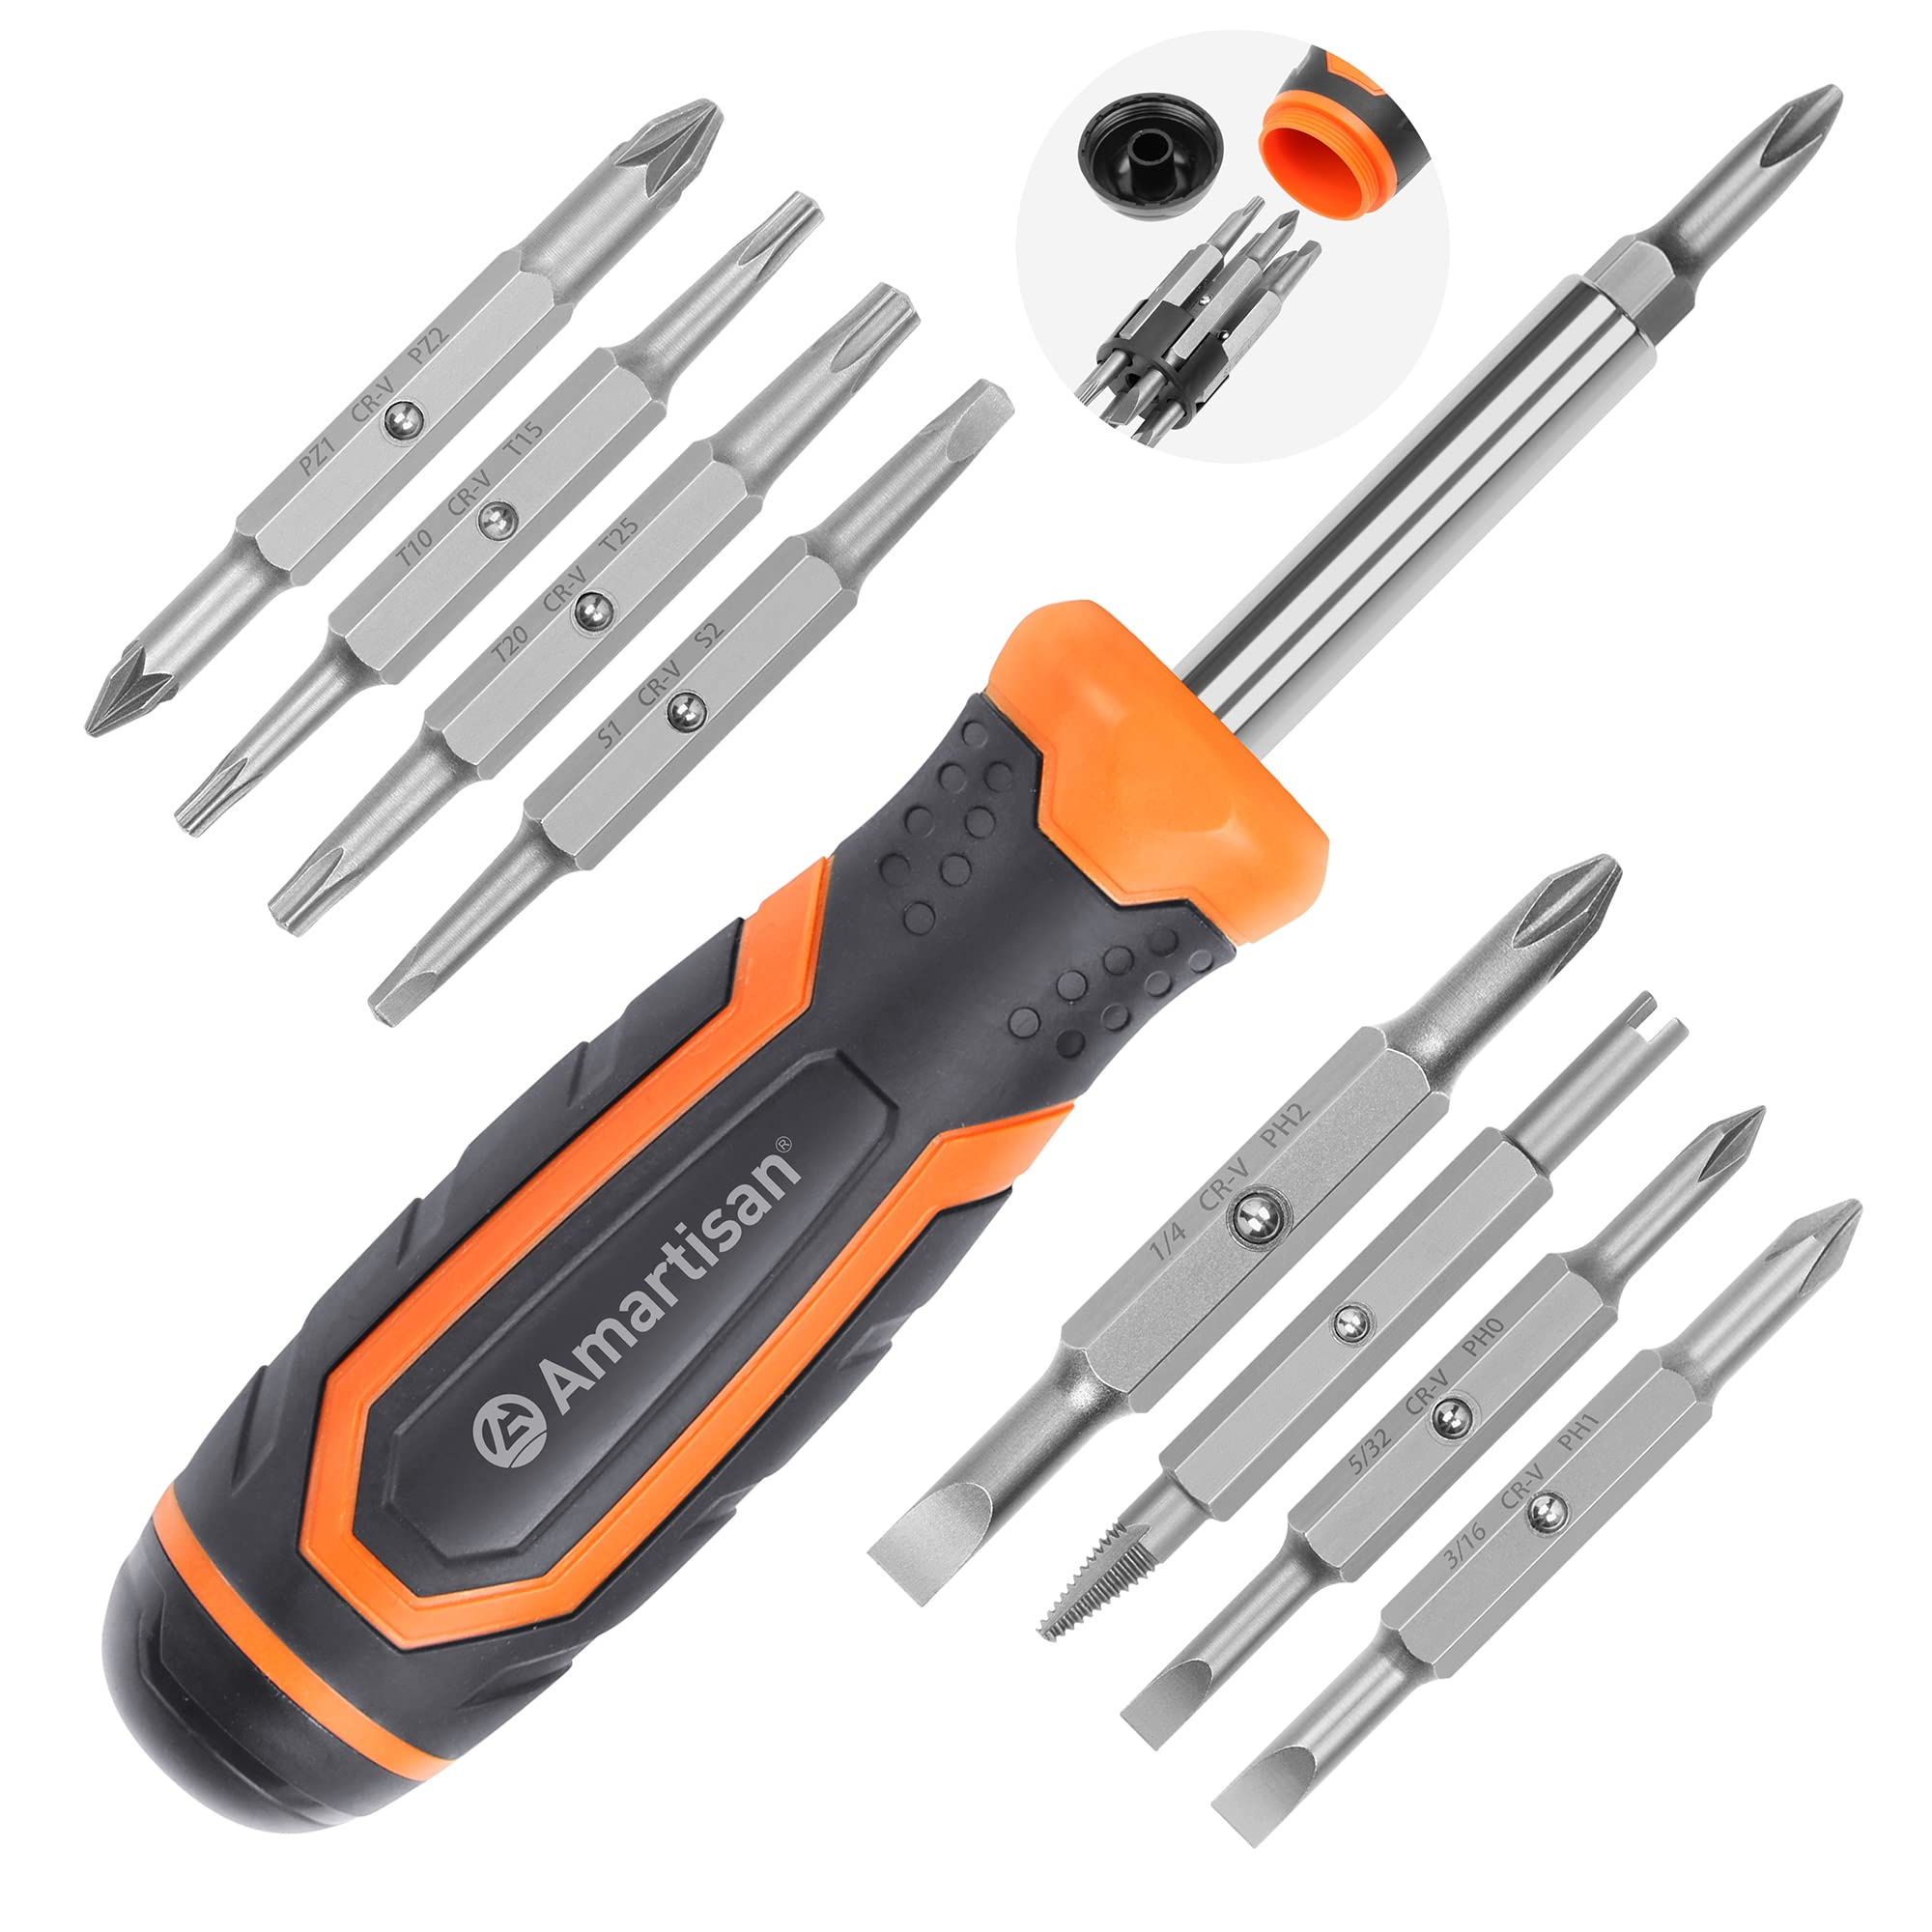screwdriver: (99, 78, 1847, 1847)
